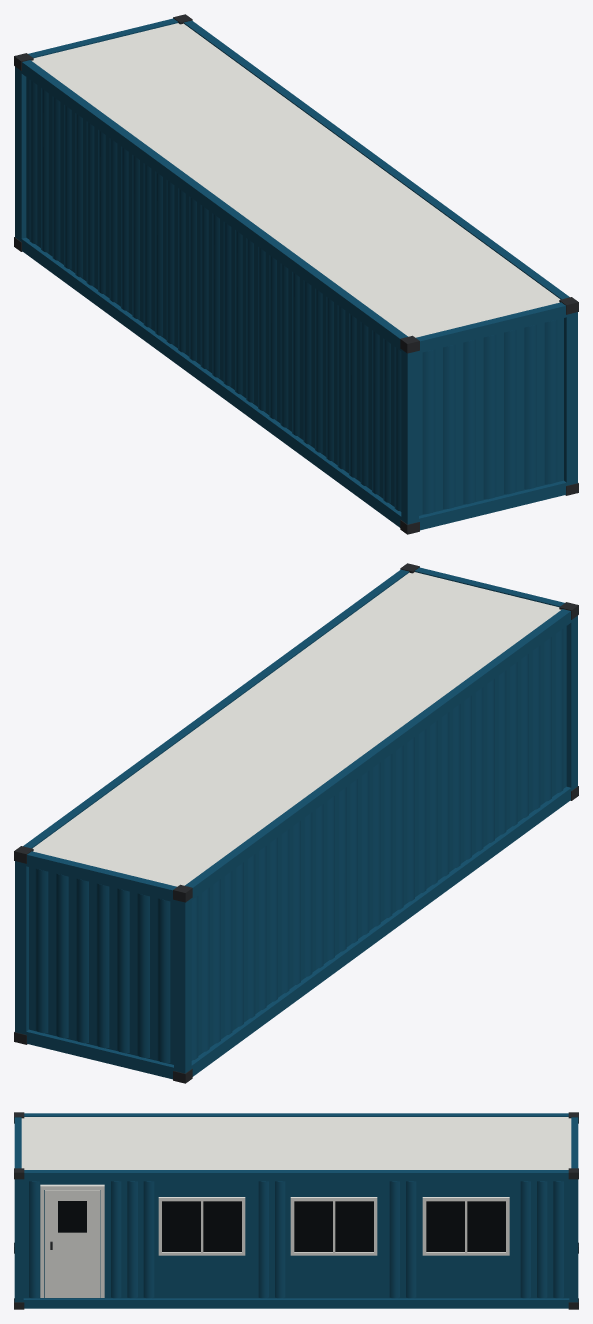
The model's file is plant.cabin.office_32.glb.
3 renders of one model, top to bottom at view 1: azimuth 30°, elevation 25°; view 2: azimuth 150°, elevation 25°; view 3: azimuth 270°, elevation 25°, orthographic. The views are drawn at different scales.
Visible parts, largest first — view 1: main__container_blue, main__paint_white, frame__container_blue, frame__steel_dark; view 2: main__container_blue, main__paint_white, frame__container_blue, frame__steel_dark; view 3: main__container_blue, main__paint_white, frame__container_blue, main__glass_dark, frame__steel_dark.
Part boxes in pixels (bbox=[...]): main__container_blue: bbox=[26, 77, 563, 515]; main__paint_white: bbox=[31, 23, 560, 337]; frame__container_blue: bbox=[15, 18, 577, 530]; frame__steel_dark: bbox=[14, 14, 578, 534]; main__container_blue: bbox=[29, 626, 566, 1064]; main__paint_white: bbox=[32, 572, 561, 886]; frame__container_blue: bbox=[15, 567, 577, 1079]; frame__steel_dark: bbox=[14, 563, 578, 1083]; main__container_blue: bbox=[23, 1181, 569, 1298]; main__paint_white: bbox=[21, 1117, 571, 1297]; frame__container_blue: bbox=[14, 1113, 578, 1308]; main__glass_dark: bbox=[58, 1201, 505, 1251]; frame__steel_dark: bbox=[14, 1112, 578, 1309].
Size of the model in its own units: 2.48 by 2.61 by 9.77.
